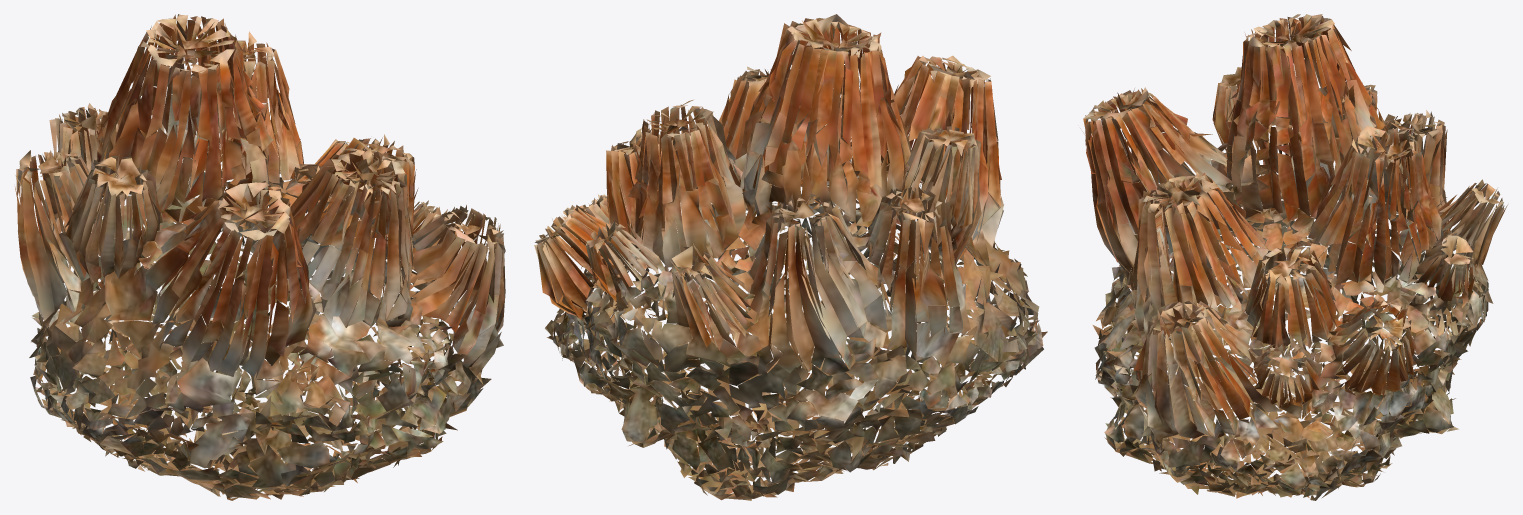
Rendered from coral.glb.
3 views of the same model, side by side, from view 1: azimuth 30°, elevation 25°; view 2: azimuth 150°, elevation 25°; view 3: azimuth 270°, elevation 25° (orthographic). The views are drawn at different scales.
Parts seen in each view (by area): view 1: Mesh_0; view 2: Mesh_0; view 3: Mesh_0.
Boxes of the visible parts, left/top/right/bottom form: Mesh_0: left=15, top=14, right=505, bottom=500; Mesh_0: left=534, top=14, right=1047, bottom=500; Mesh_0: left=1080, top=14, right=1507, bottom=500.
Bounding box in the file's own units: 0.9639 × 1.01 × 0.907.
Materials: 1 (1 with a texture image).
